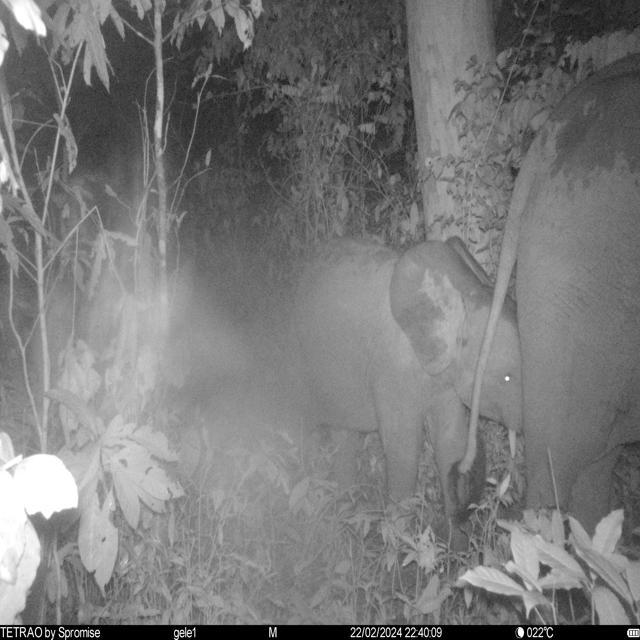calf: (280, 237, 524, 529)
ear: (390, 241, 480, 377)
elephant: (443, 48, 640, 540)
tusk: (507, 427, 516, 461)
